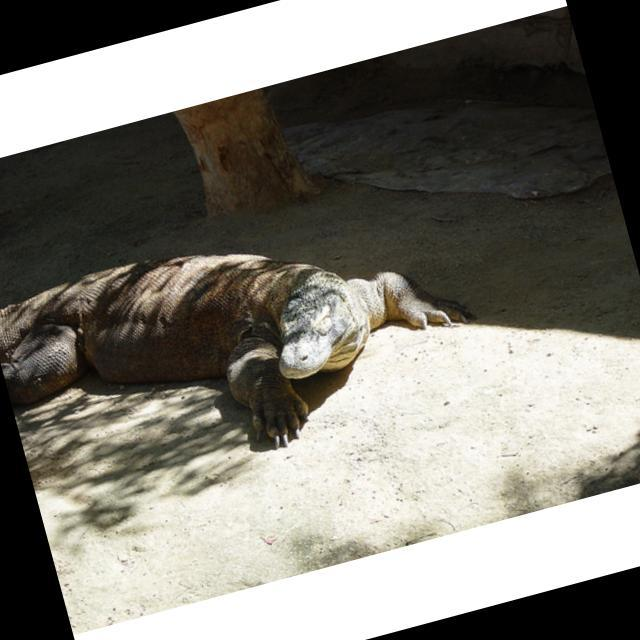KomodoDragon: (0, 179, 497, 512)
